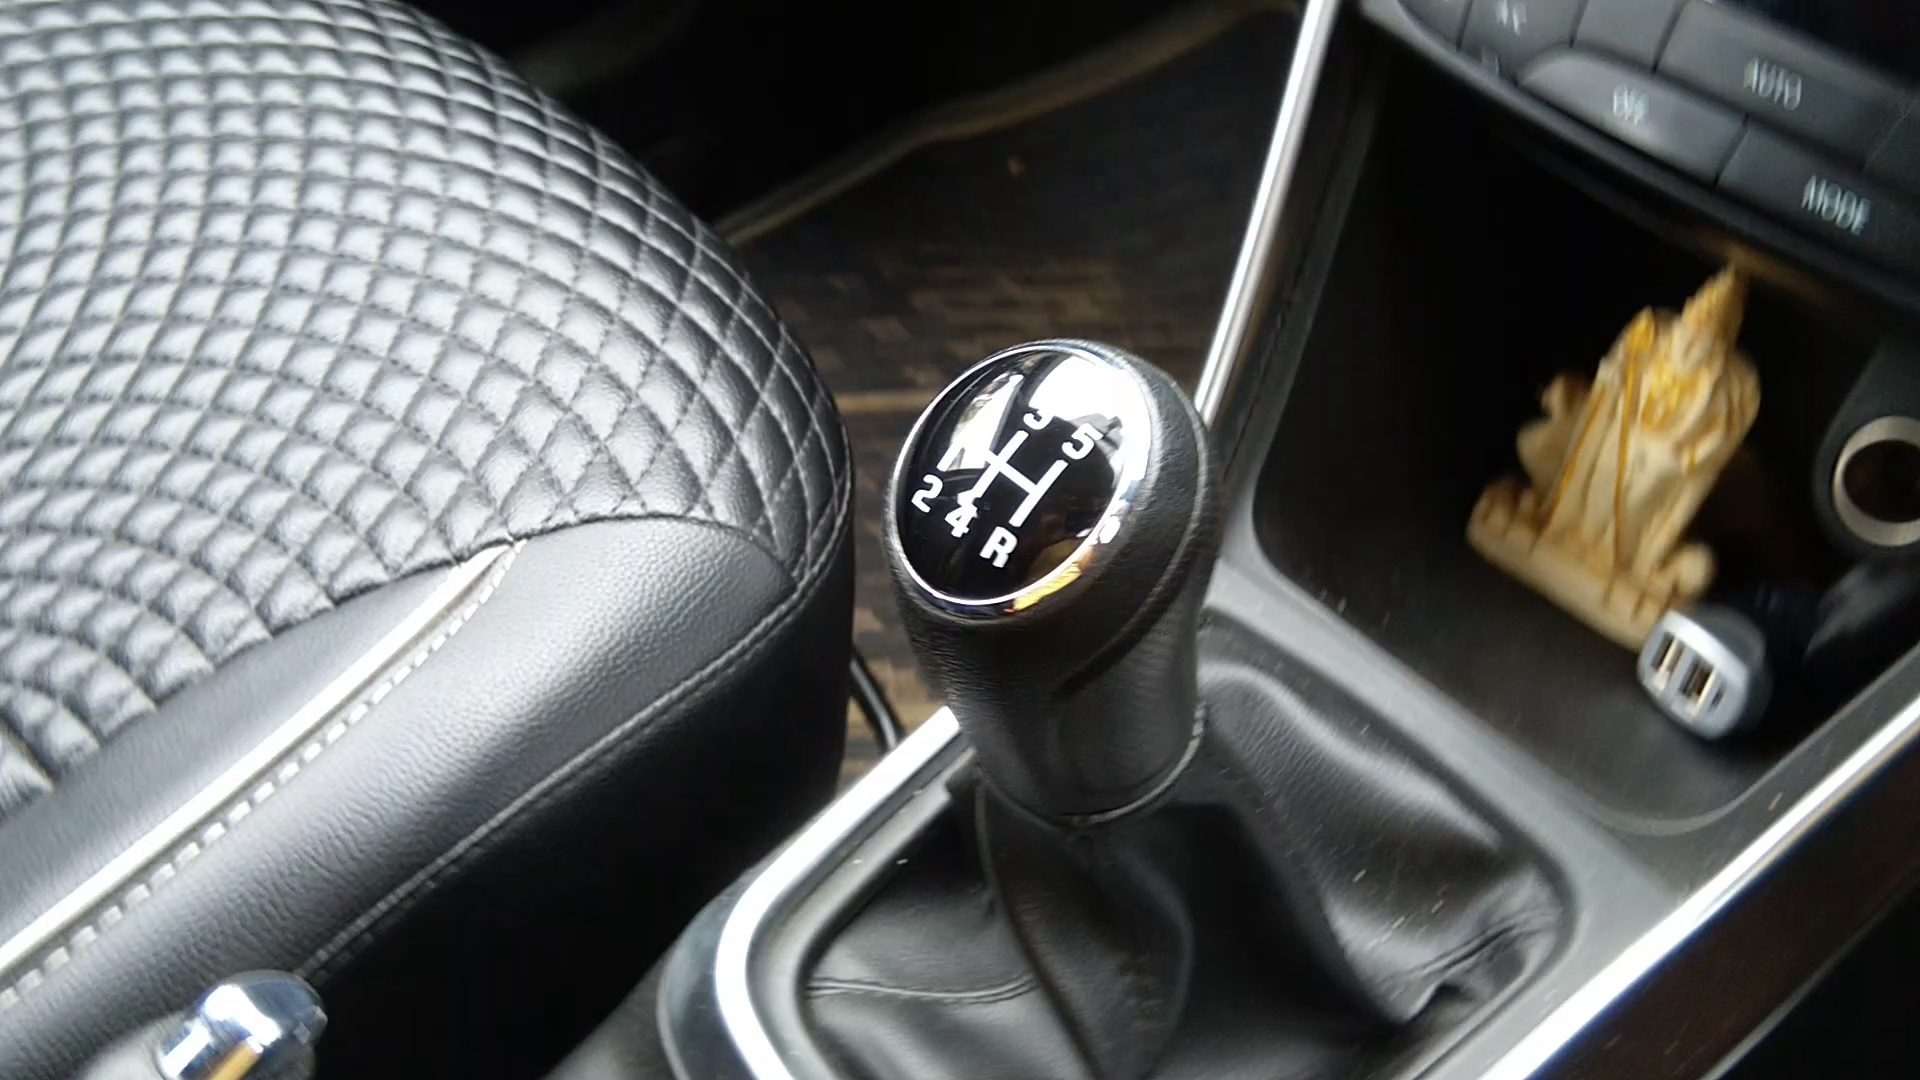manual_gear: (874, 322, 1244, 857)
